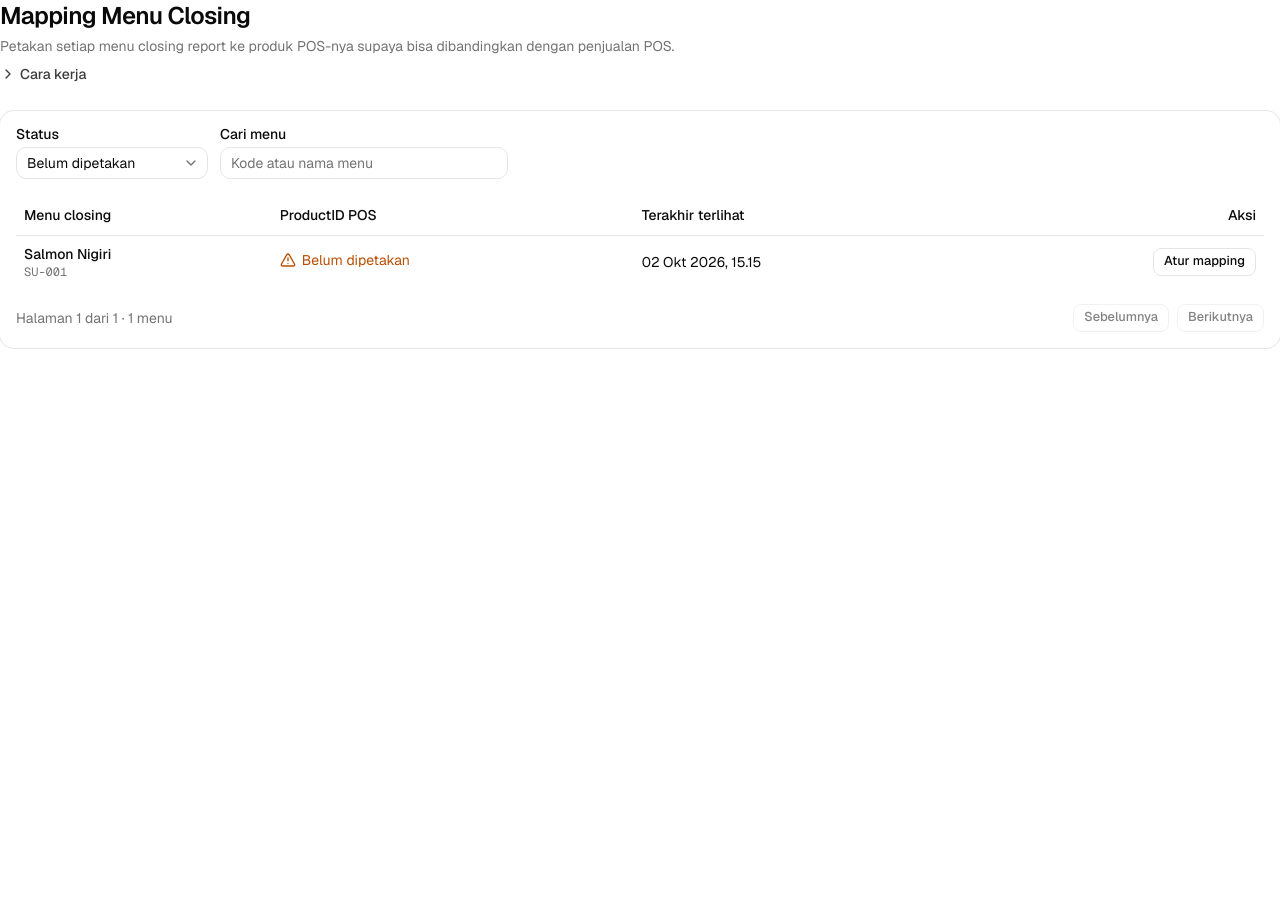
Test: ClosingMenusView — atur mapping › menambah ProductID dengan pengali; dialog tetap terbuka walau menu jadi terpetakan
The width and height of the screenshot is (1280, 900).
Click the button "Atur mapping": (1204,262) [1153,248,1256,276]
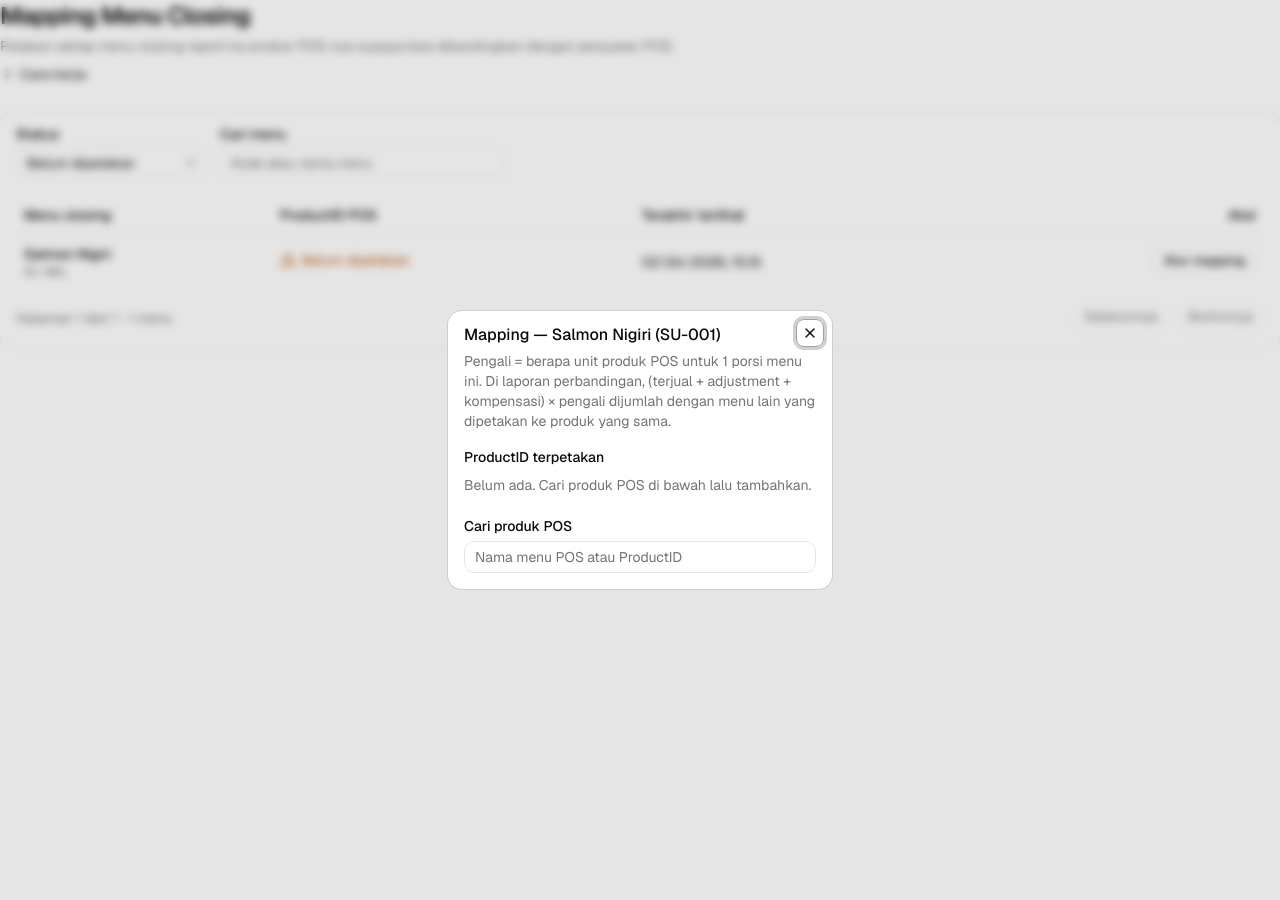
In the field labelled "Cari produk POS": (640,557) [464,541,816,573], type "paket"
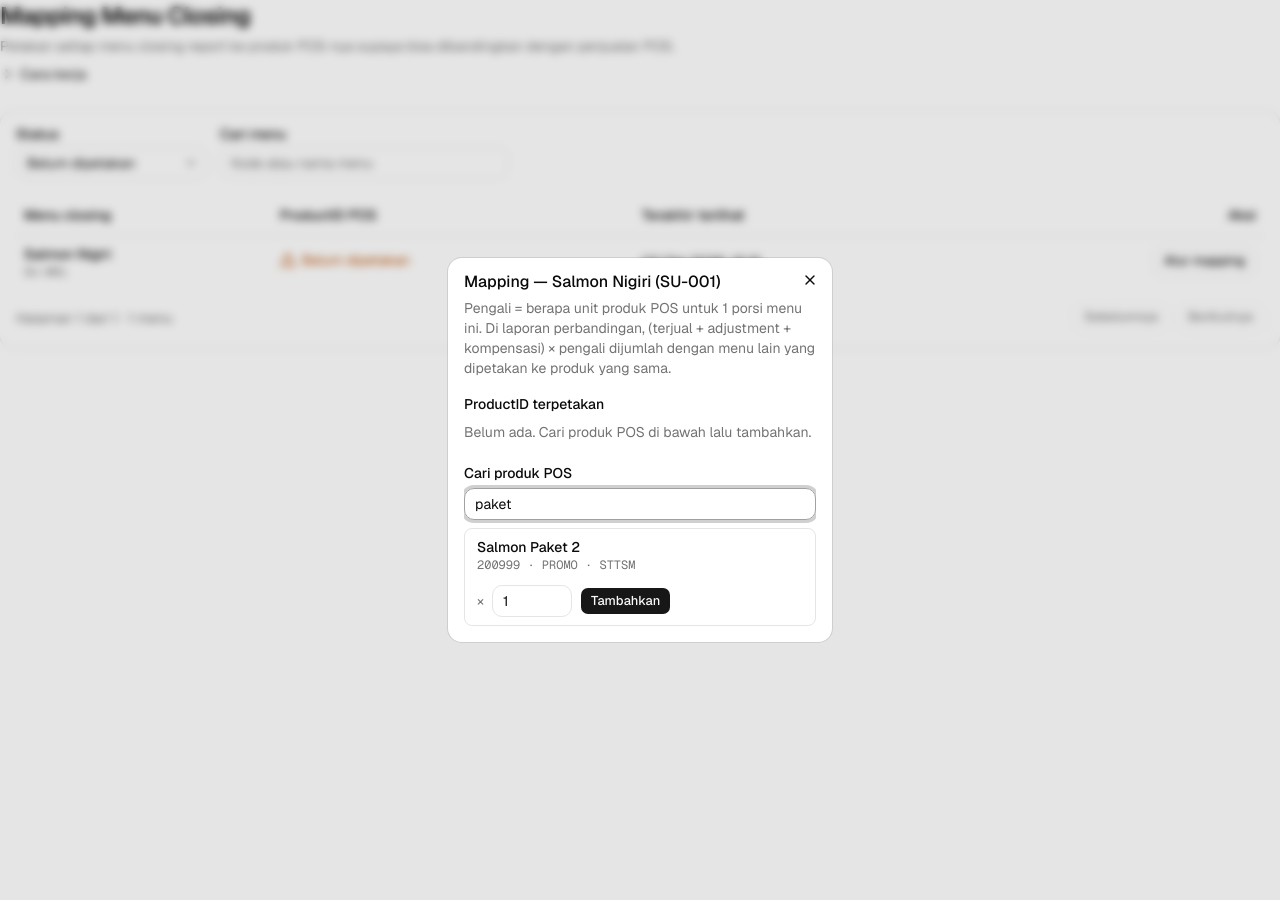
Replace the text in the number field named "pengali" with "2": (532,601) [492,585,572,617]
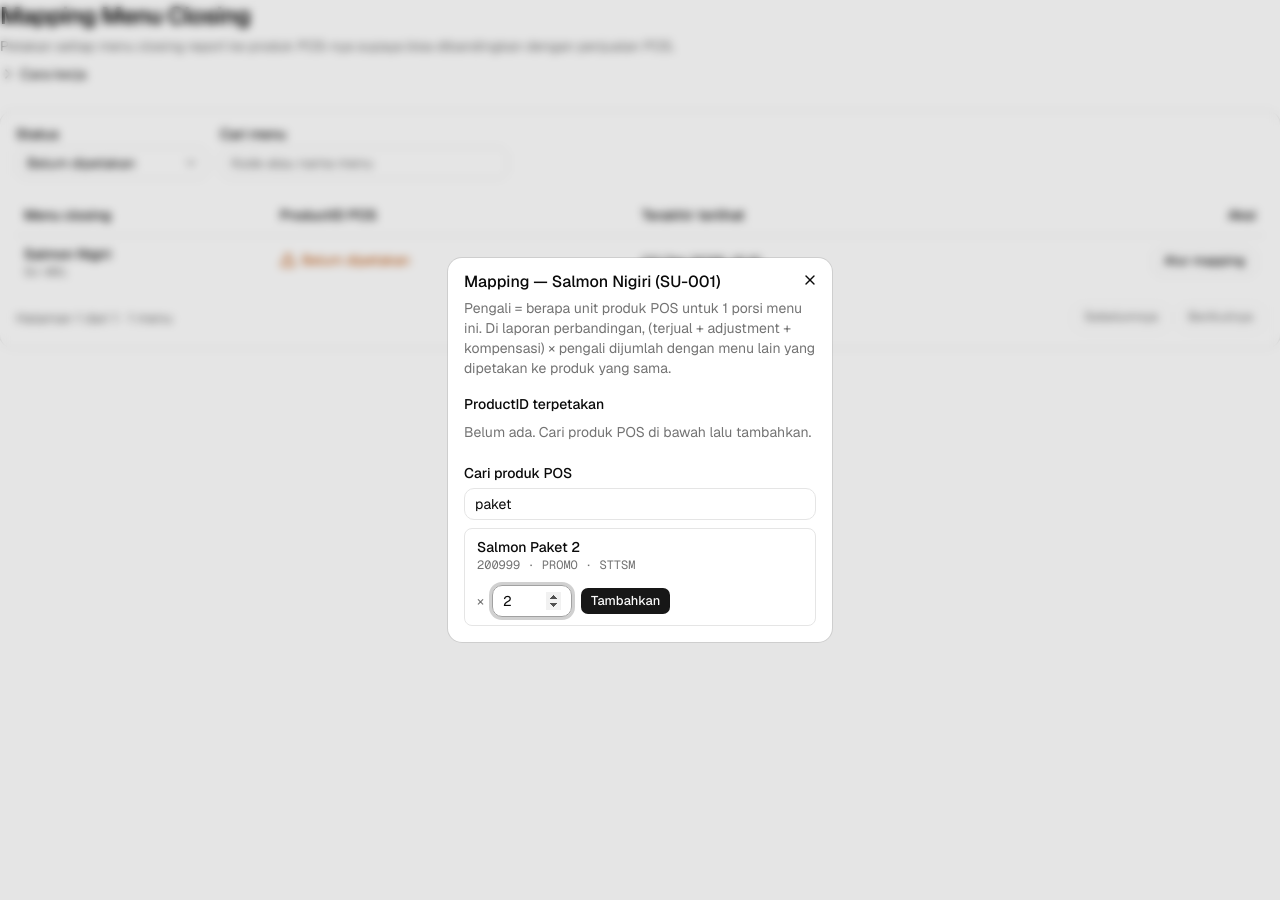
Click the button "Tambahkan": (626,601) [580,587,671,615]
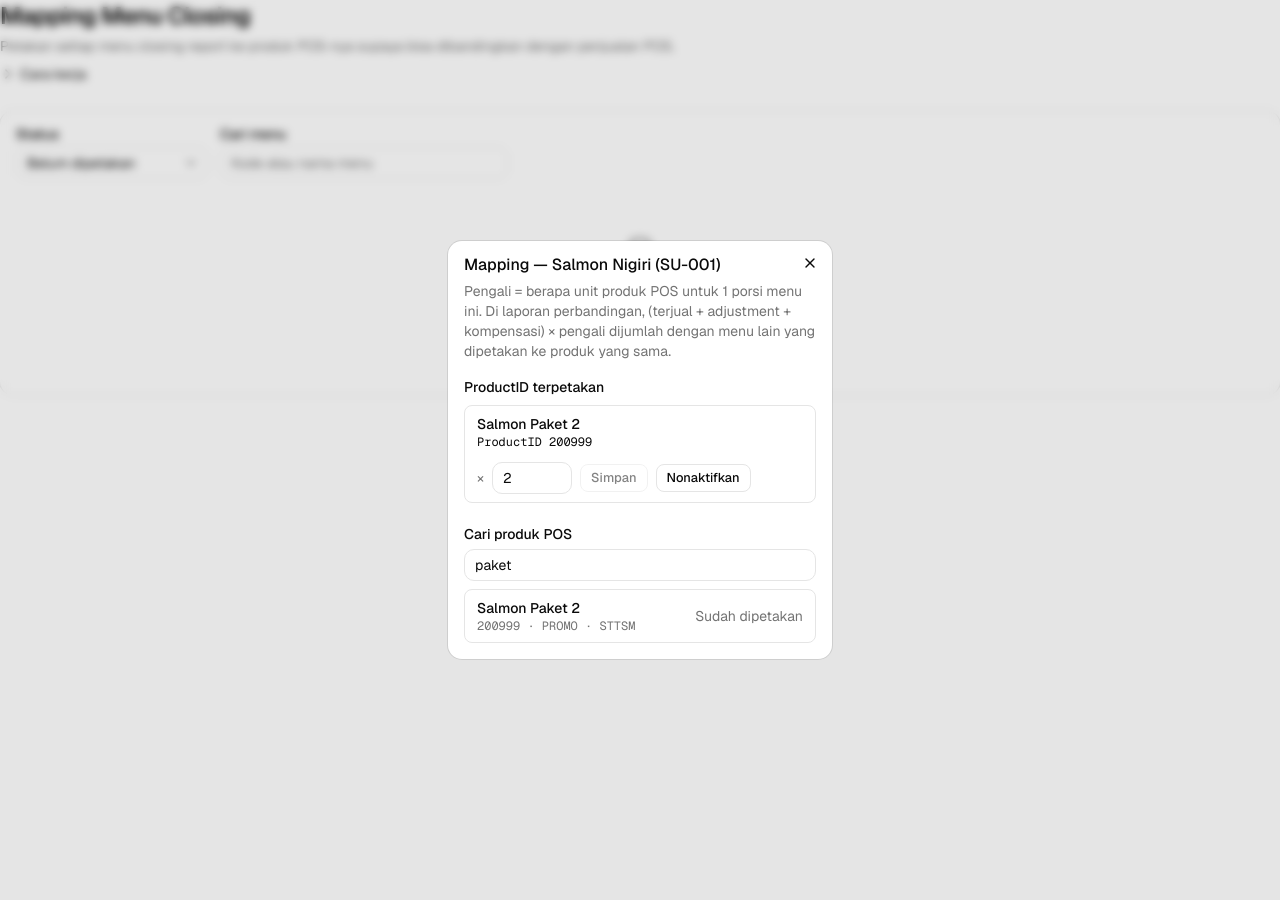
Now the dialog is shown, box [448,241,832,659]
Now the text "ProductID 200999" is shown, box [477,434,592,450]
